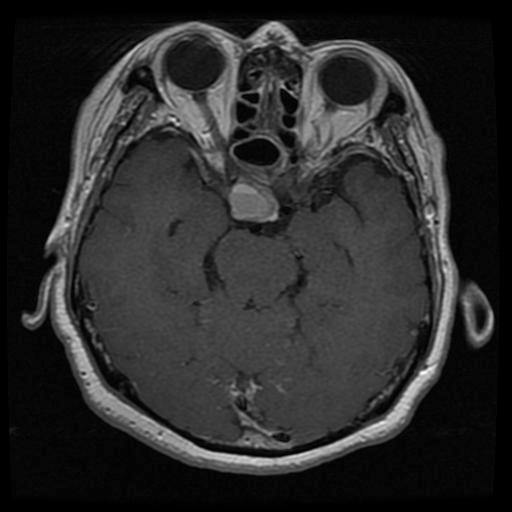Tumour-Pituitary: (227, 183, 281, 228)
